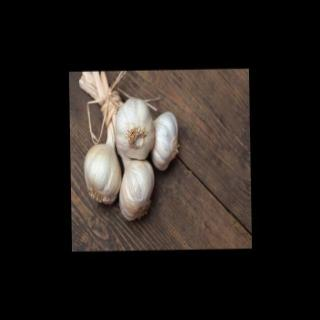Bawang Putih: (115, 97, 156, 162), (118, 158, 156, 222), (83, 143, 122, 205)
